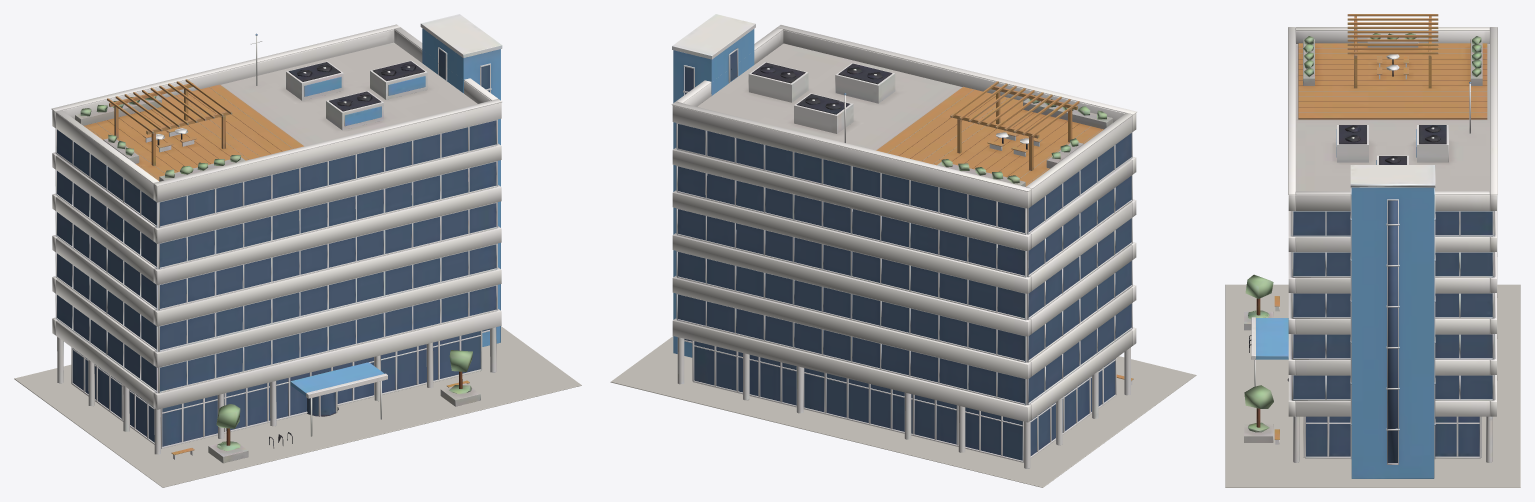
Rendered from office-building.glb.
3 views of the same model, side by side, from view 1: azimuth 30°, elevation 25°; view 2: azimuth 150°, elevation 25°; view 3: azimuth 270°, elevation 25° (orthographic). The views are drawn at different scales.
Parts seen in each view (by area): view 1: office-building_facade, office-building_shell, office-building_body, office-building_ground_slab; view 2: office-building_facade, office-building_shell, office-building_body, office-building_ground_slab; view 3: office-building_facade, office-building_body, office-building_ground_slab, office-building_shell.
Boxes of the visible parts, <box> form: office-building_facade: <box>55,14,502,393</box>; office-building_shell: <box>51,24,502,409</box>; office-building_body: <box>57,33,496,463</box>; office-building_ground_slab: <box>14,326,581,487</box>; office-building_facade: <box>672,14,1132,405</box>; office-building_shell: <box>671,25,1136,422</box>; office-building_body: <box>677,43,1133,468</box>; office-building_ground_slab: <box>610,336,1196,487</box>; office-building_facade: <box>1290,165,1495,478</box>; office-building_body: <box>1244,14,1492,462</box>; office-building_ground_slab: <box>1225,284,1520,487</box>; office-building_shell: <box>1288,27,1497,416</box>.
Bounding box in the file's own units: 36.1 × 25.56 × 22.2.
Materials: 4 (3 with a texture image).
